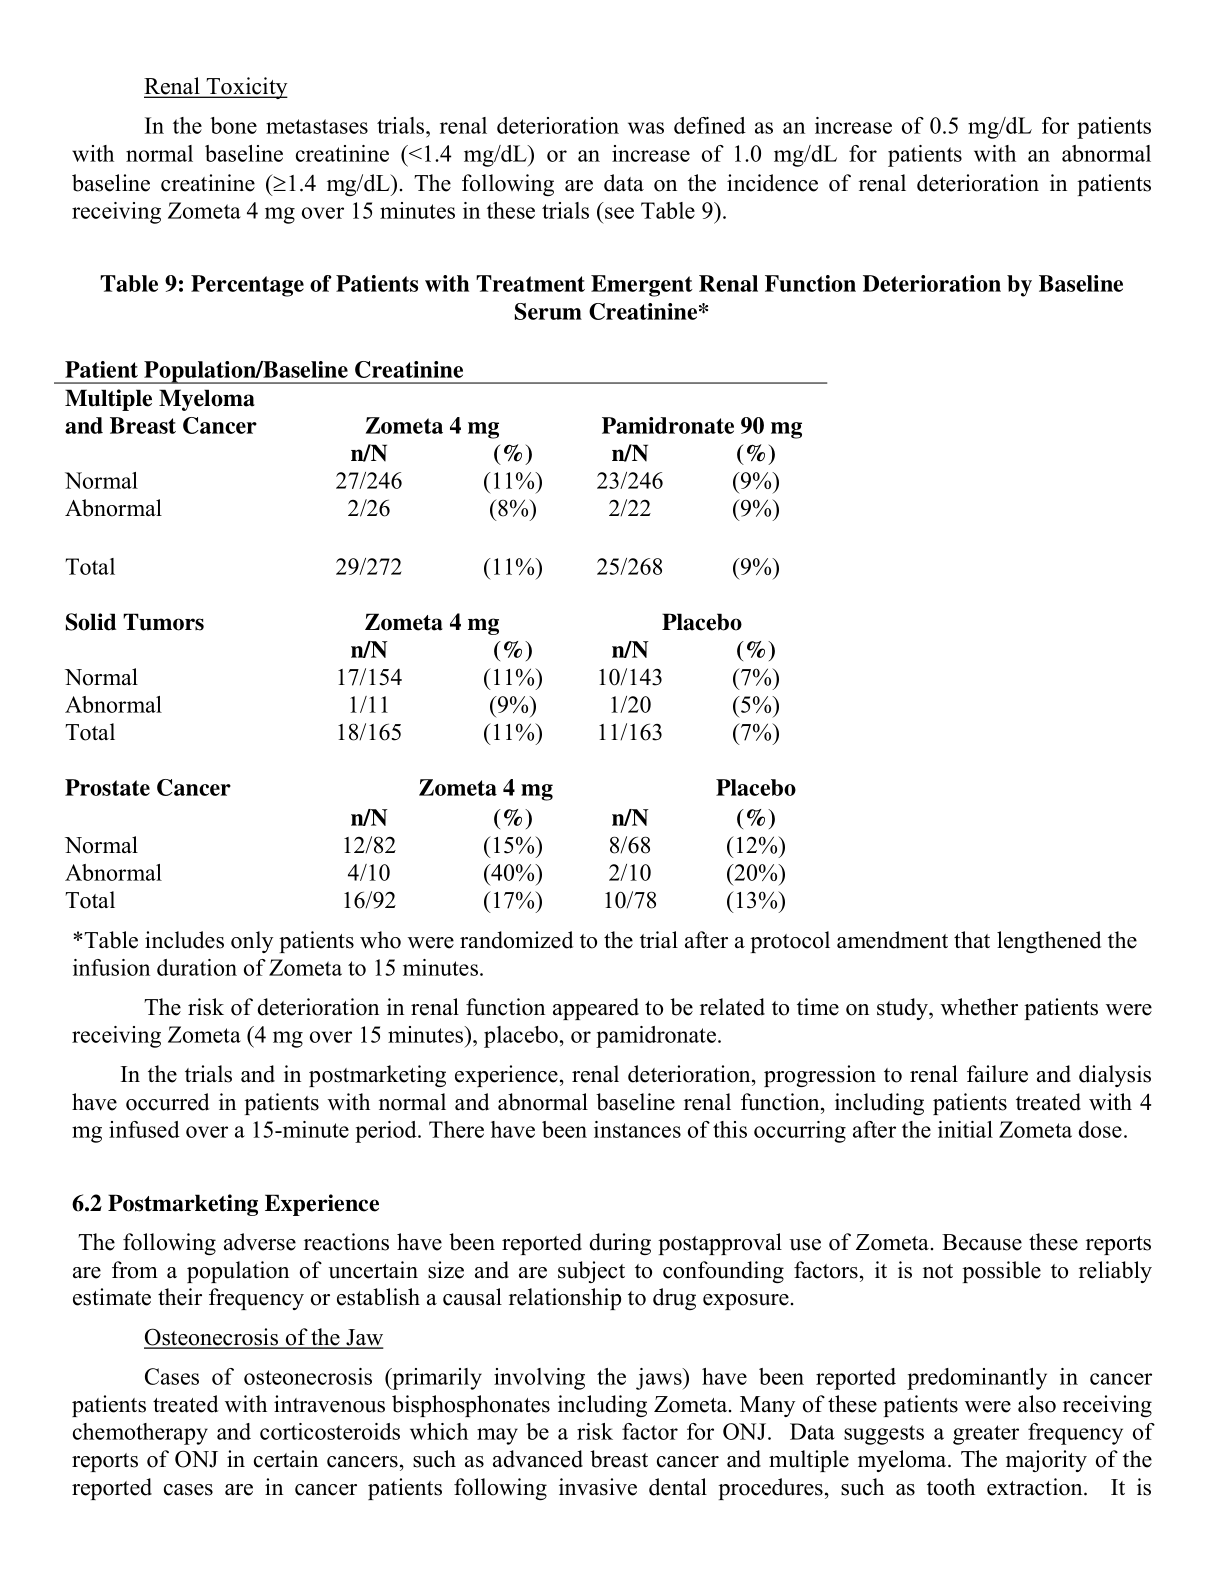partial_lined: (53, 378, 828, 913)
